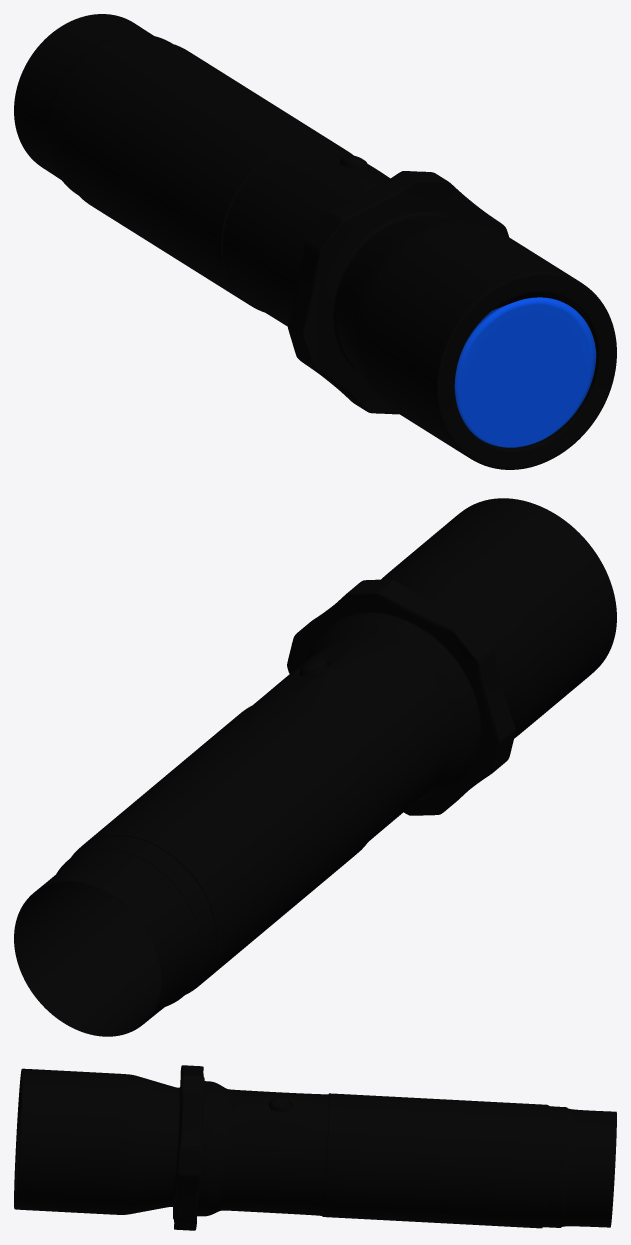
The model's file is hand_light.fbx.
The picture shows the model from 3 angles, top to bottom: view 1: azimuth 30°, elevation 25°; view 2: azimuth 150°, elevation 25°; view 3: azimuth 270°, elevation 25°; orthographic projection. The views are drawn at different scales.
Visible parts, largest first — view 1: body, reflector; view 2: body; view 3: body.
Part boxes in pixels (box(x1,y1,x2,y2)): body: box(14, 14, 616, 469); reflector: box(454, 297, 596, 447); body: box(14, 498, 616, 1036); body: box(14, 1065, 616, 1230).
Bounding box in the file's own units: 2.08 × 2.09 × 7.5.
